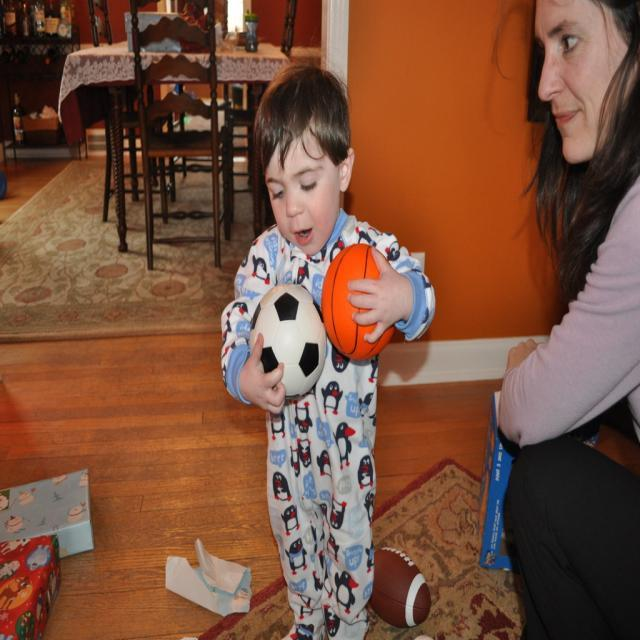football: (226, 256, 343, 406), (308, 234, 413, 366)
